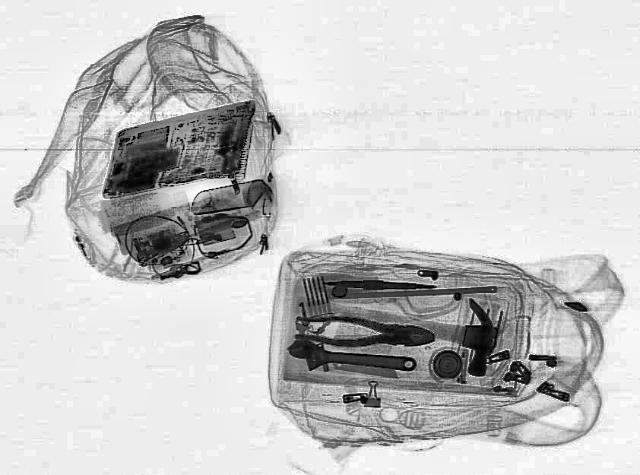Pliers: (292, 312, 436, 352)
Wrench: (284, 336, 418, 380)
